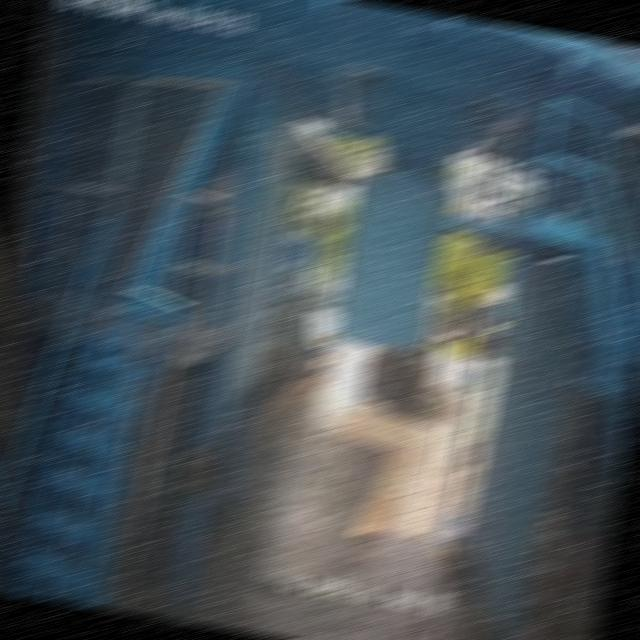cement_mixer_truck: (359, 283, 446, 411)
